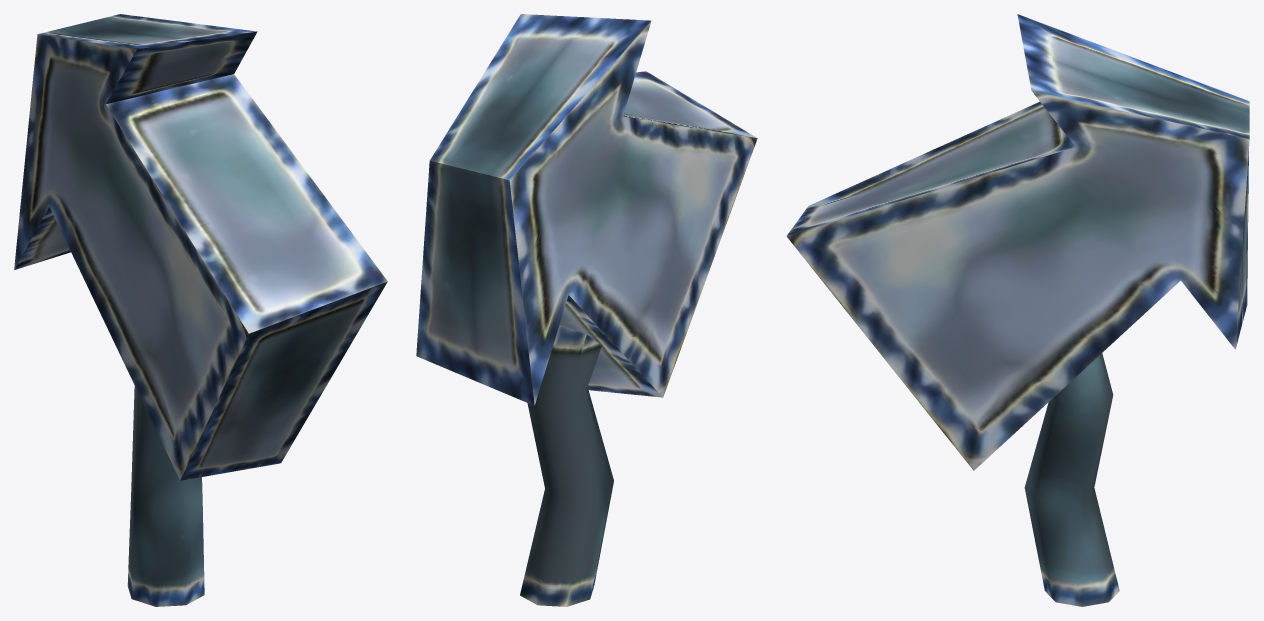
The model's file is signup-side.dae.
The picture shows the model from 3 angles, left to right: view 1: azimuth 30°, elevation 25°; view 2: azimuth 150°, elevation 25°; view 3: azimuth 270°, elevation 25°; orthographic projection. The views are drawn at different scales.
Parts seen in each view (by area): view 1: signup-side; view 2: signup-side; view 3: signup-side.
Part boxes in pixels (x1,y1,x2,y2): signup-side: (14, 14, 387, 606); signup-side: (416, 14, 757, 606); signup-side: (786, 14, 1249, 606).
Size of the model in its own units: 0.3359 by 1.11 by 1.45.
